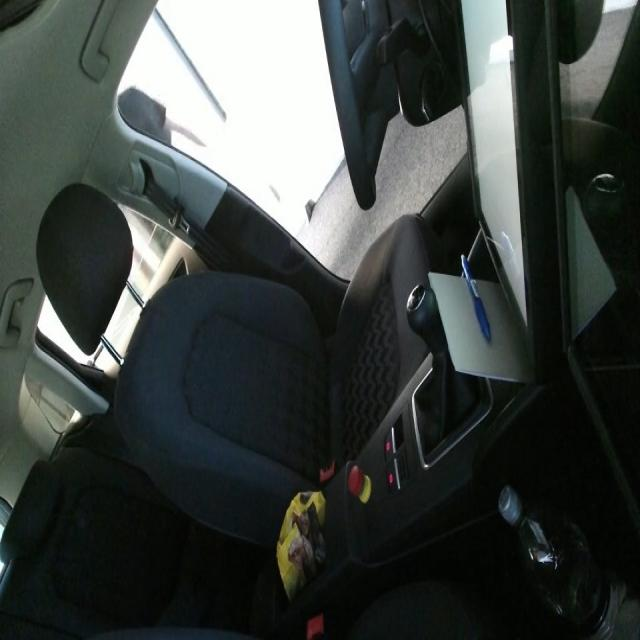pen: (460, 252, 491, 342)
